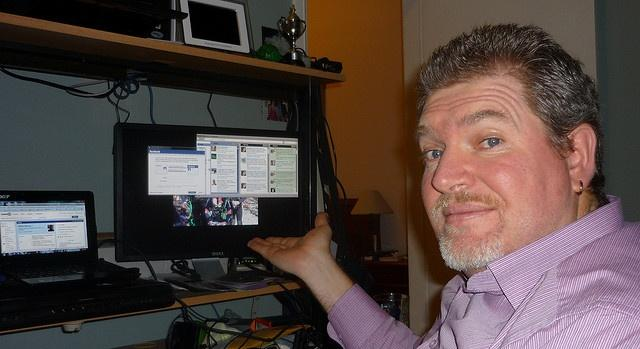AIO PC-Monitor-TV: (113, 122, 308, 262)
